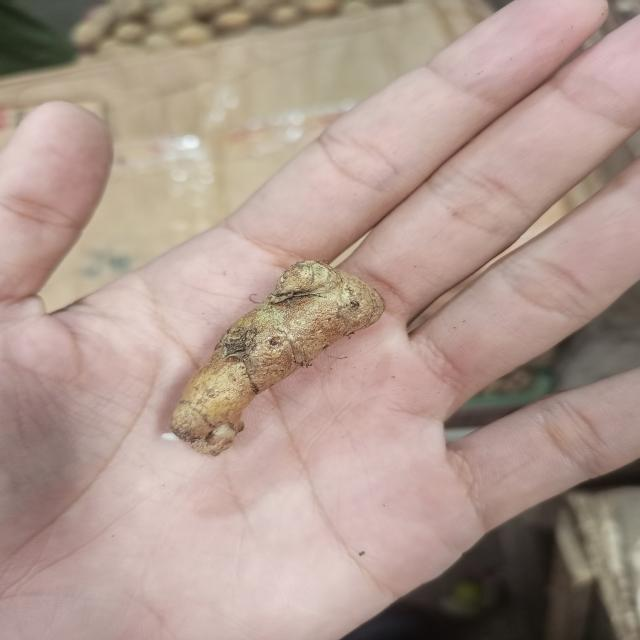ginger: (168, 262, 384, 454)
